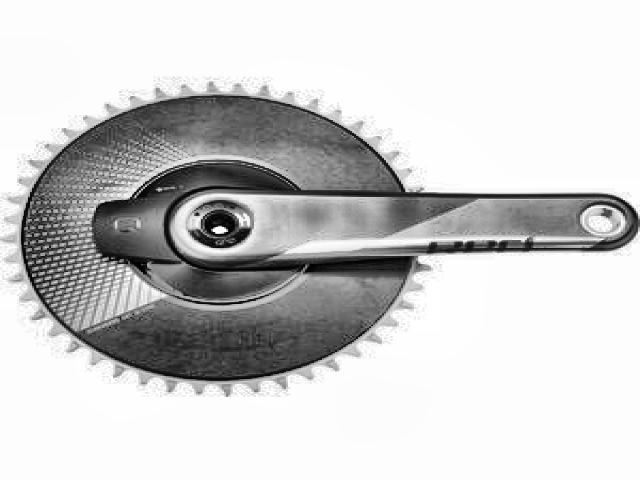cranks_set: (4, 79, 639, 398)
